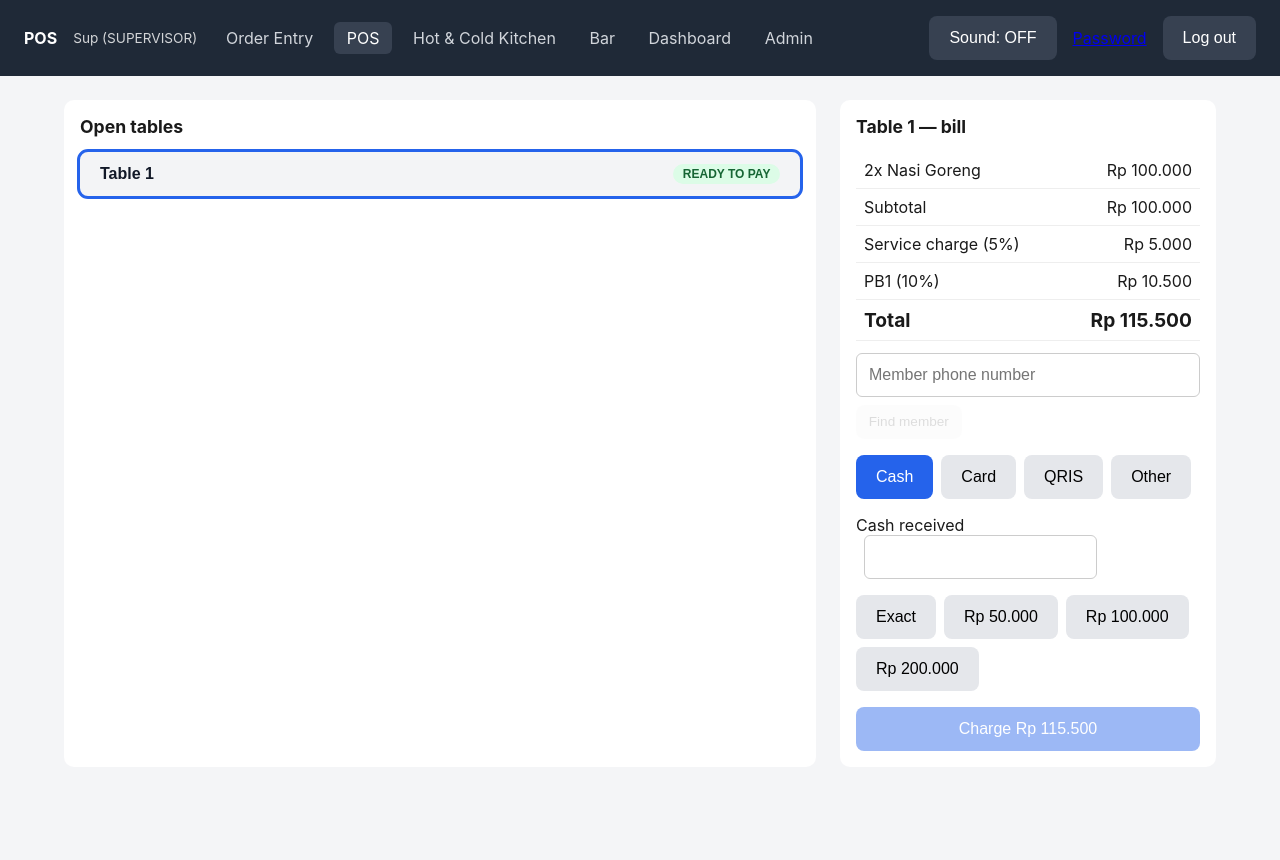
it: POS: phone not found › a supervisor can add the member right there and the discount is applied
This screenshot has width=1280, height=860.
Expected: the text "Service charge (5%)" is shown, left=856, top=225, right=1060, bottom=262
Type "0877 1111 222" into the field labelled "Member phone number".
click(1028, 375); type("0877 1111 222")  # box left=856, top=353, right=1200, bottom=397
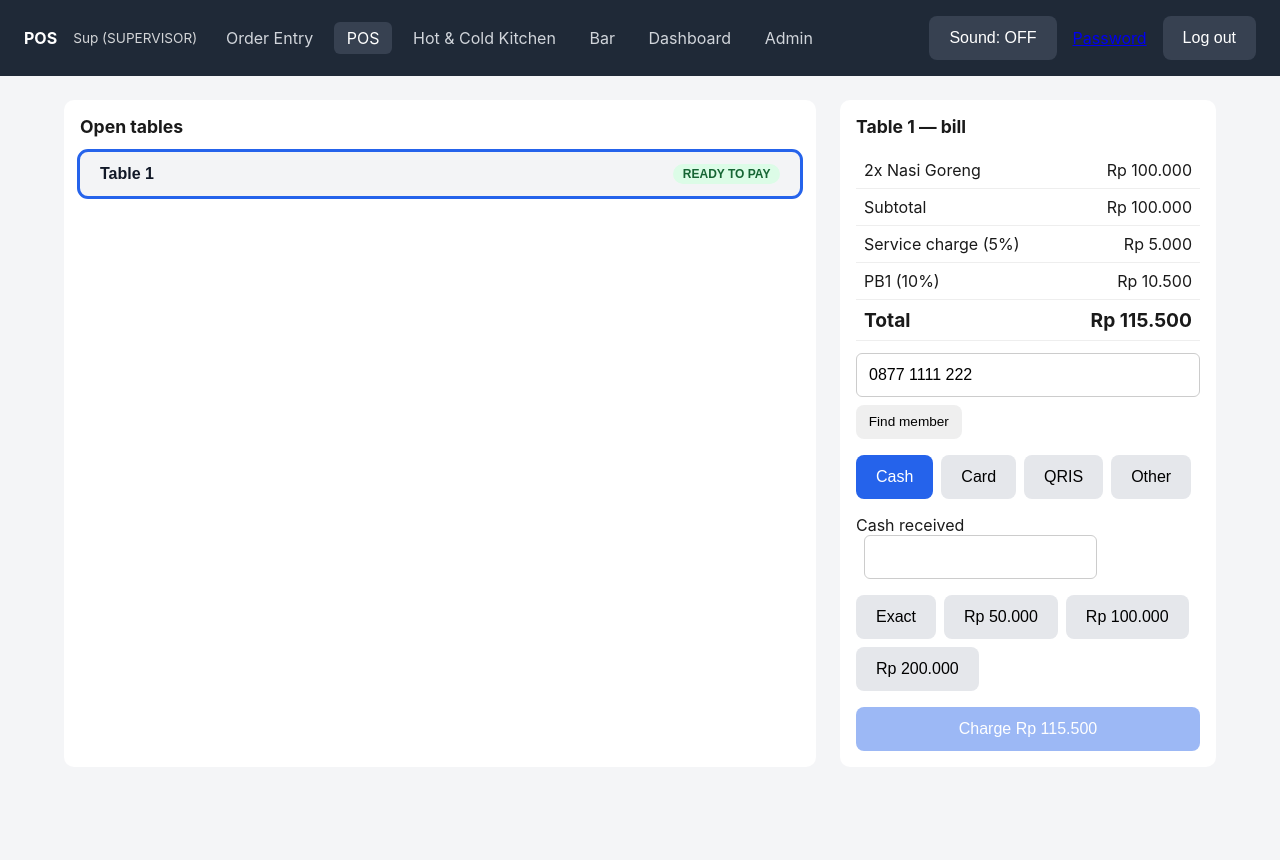
Click the button "Find member".
click(909, 422)  # box left=856, top=405, right=962, bottom=439
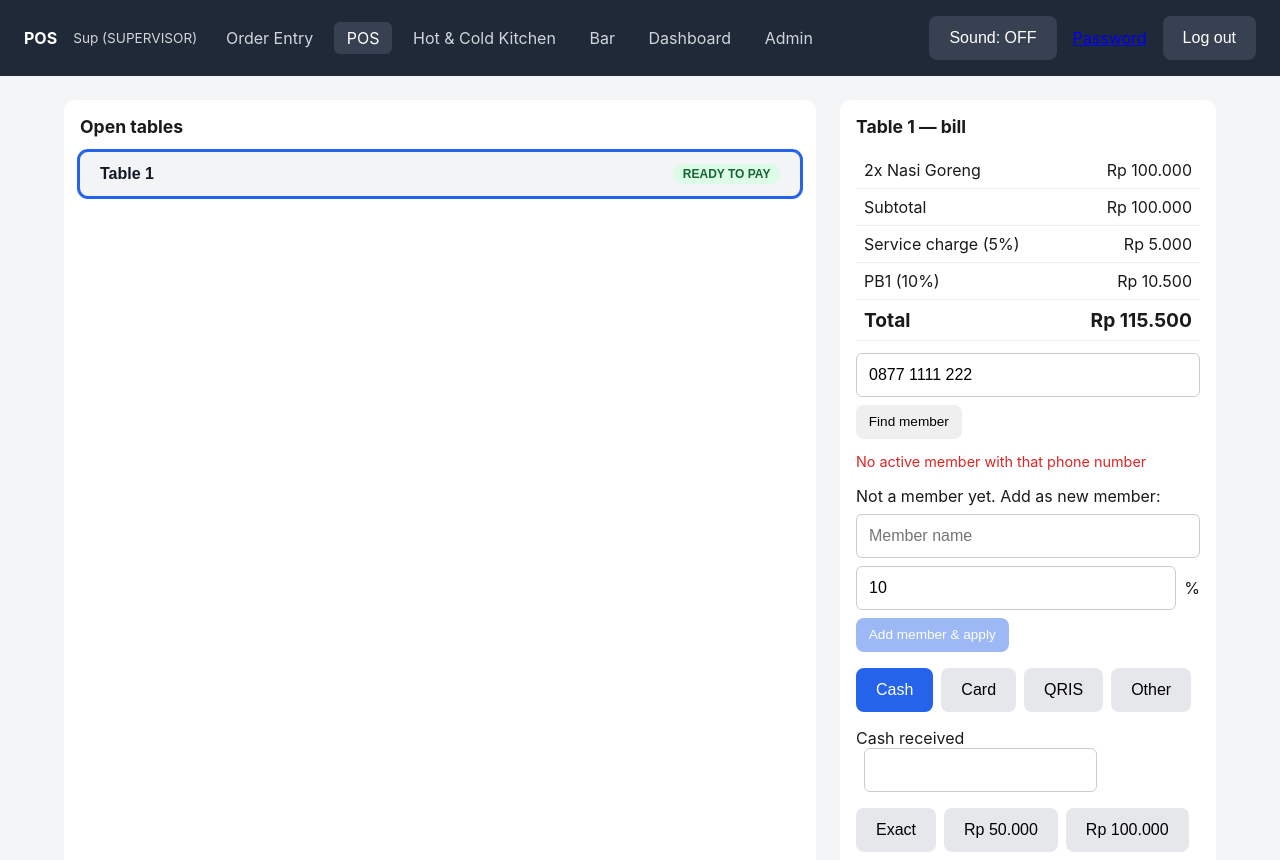
Type "Budi" into the field named "New member name".
click(1028, 536); type("Budi")  # box left=856, top=514, right=1200, bottom=558
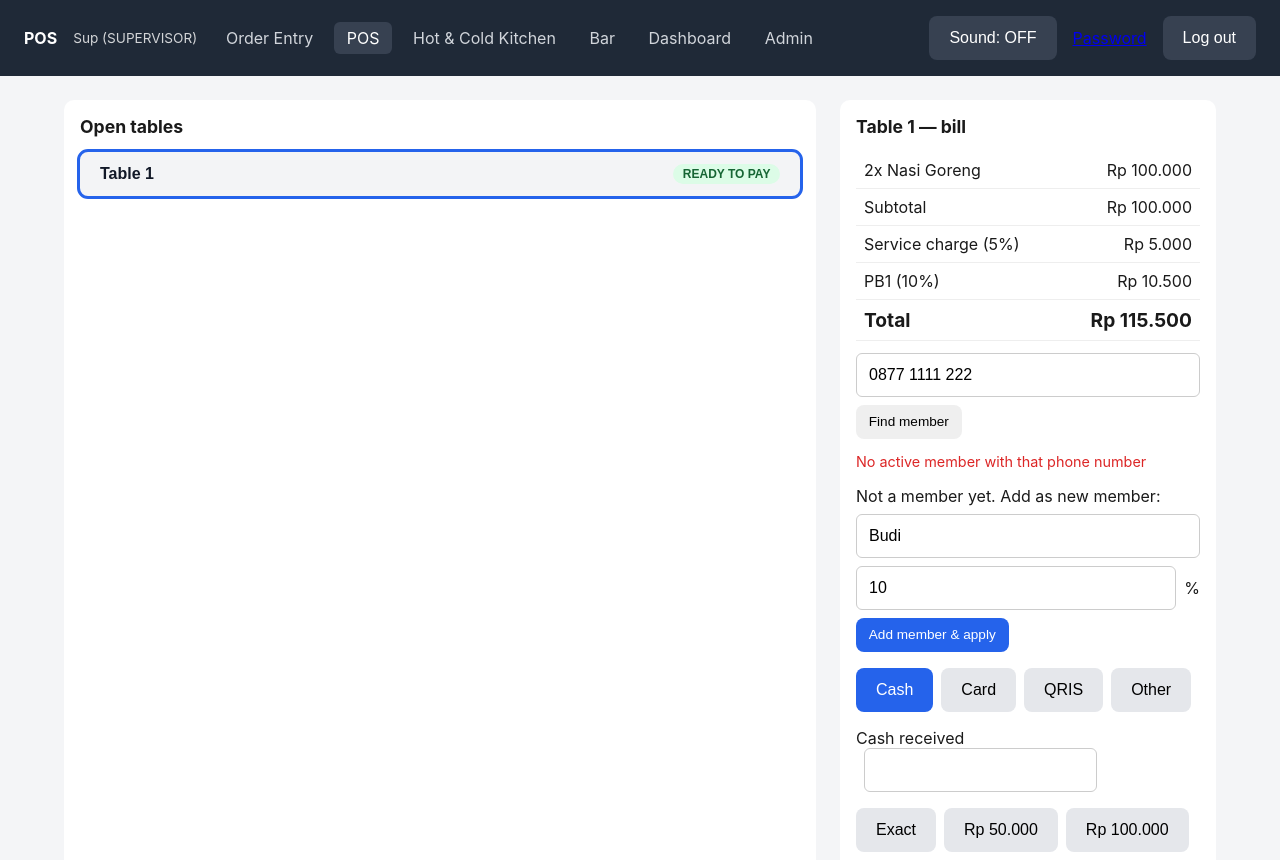
Replace the text in the field named "New member discount percent" with "15" at x=1016, y=588, box left=856, top=566, right=1176, bottom=610
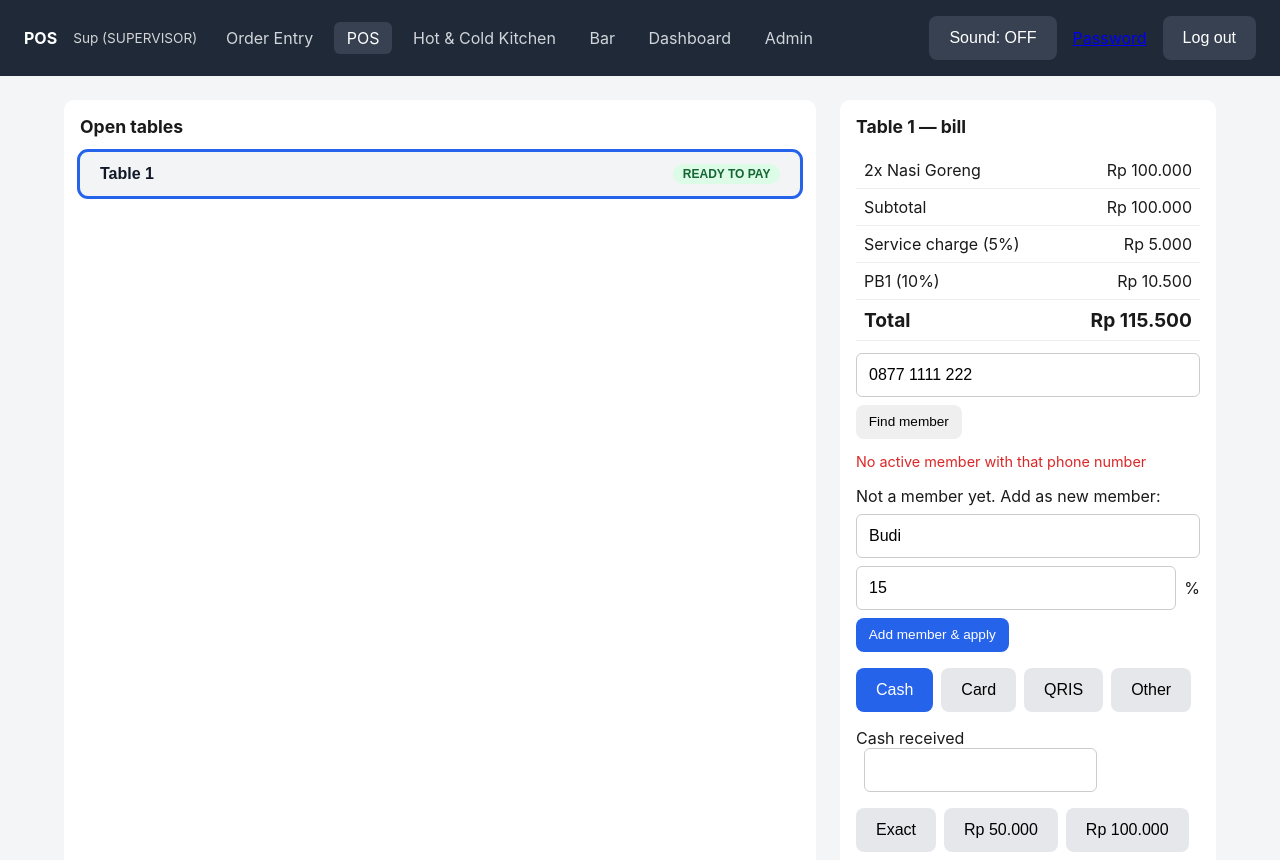
Click the button "Add member & apply".
click(932, 635)  # box left=856, top=618, right=1008, bottom=652
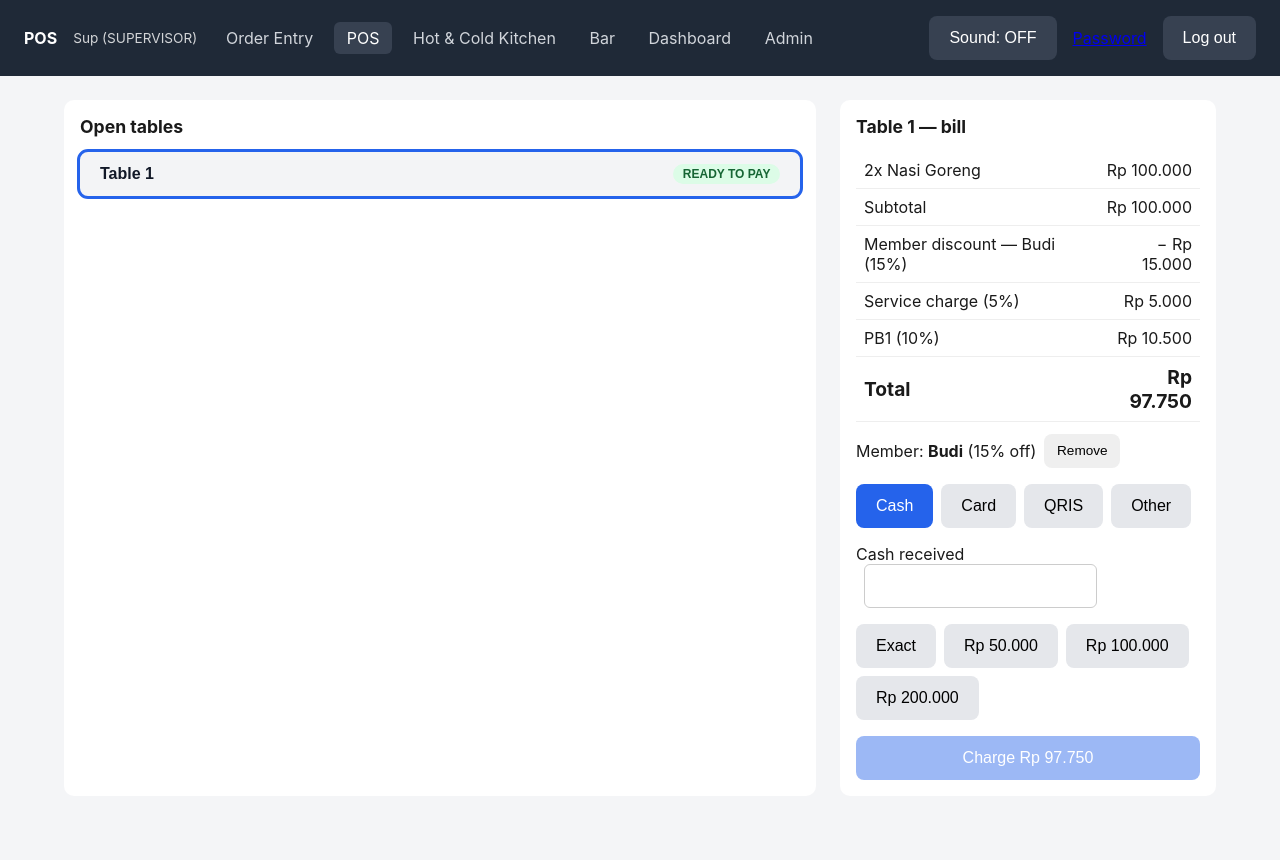
Expected: the text "Member discount — Budi (15%)" is shown, left=856, top=225, right=1095, bottom=282
